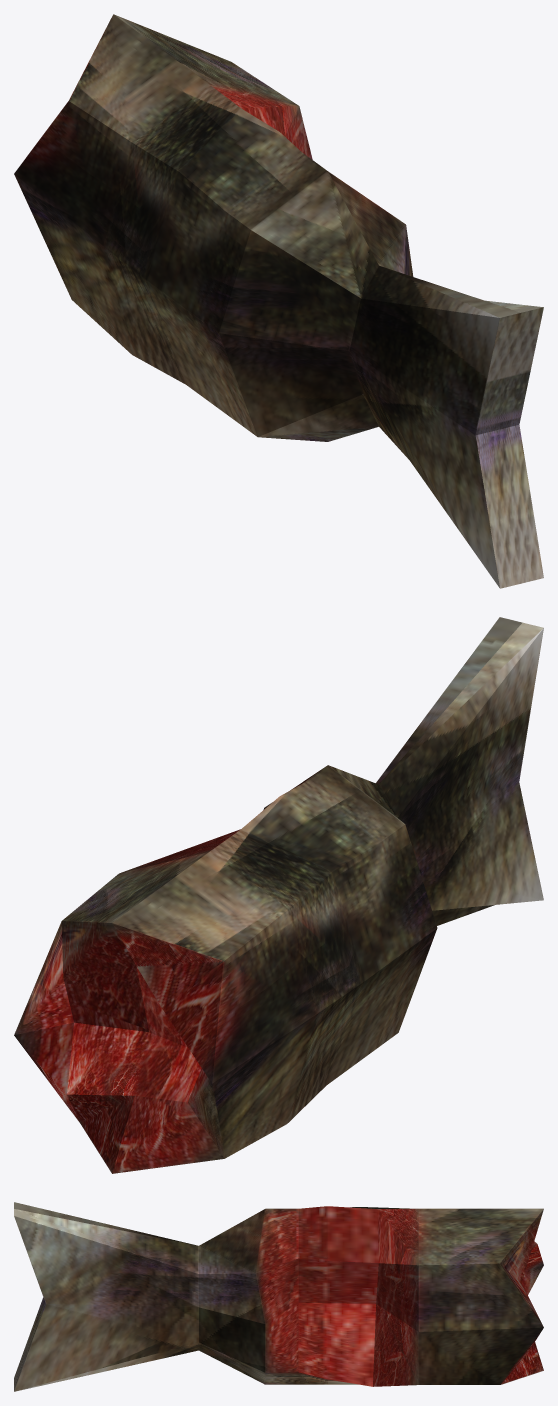
Rendered from fish_2.fbx.
The picture shows the model from 3 angles, top to bottom: view 1: azimuth 30°, elevation 25°; view 2: azimuth 150°, elevation 25°; view 3: azimuth 270°, elevation 25°; orthographic projection. The views are drawn at different scales.
Visible parts, largest first — view 1: Cube; view 2: Cube; view 3: Cube.
Part boxes in pixels (x1=…): Cube: x1=14, y1=14, x2=543, y2=588; Cube: x1=14, y1=617, x2=543, y2=1173; Cube: x1=14, y1=1202, x2=543, y2=1391.
Bounding box in the file's own units: 170 × 203 × 546.
Materials: 1 (1 with a texture image).
